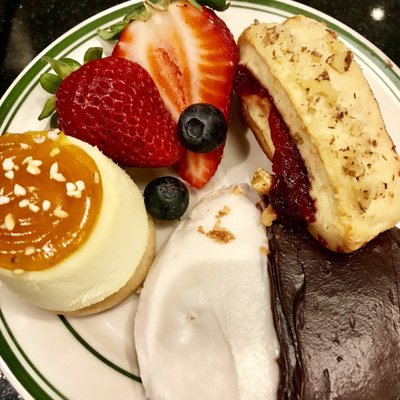salad: (132, 183, 284, 399), (0, 129, 156, 317)
